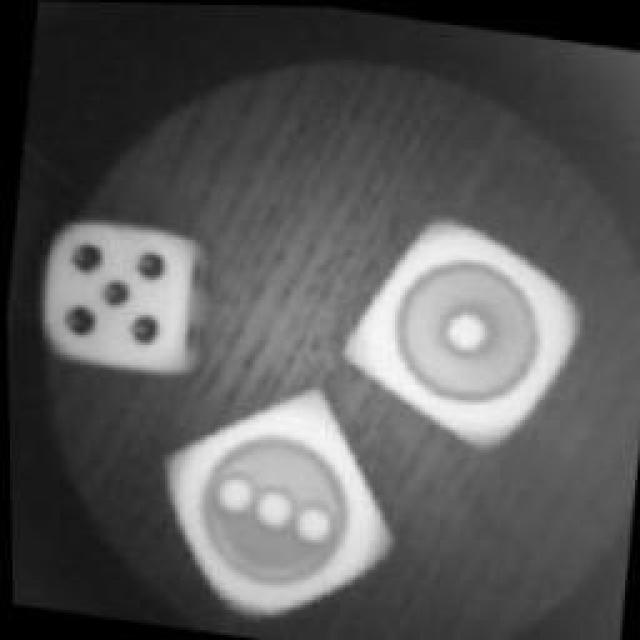dice_1: (333, 199, 595, 456)
dice_3: (153, 367, 391, 640)
dice_5: (28, 201, 220, 384)
